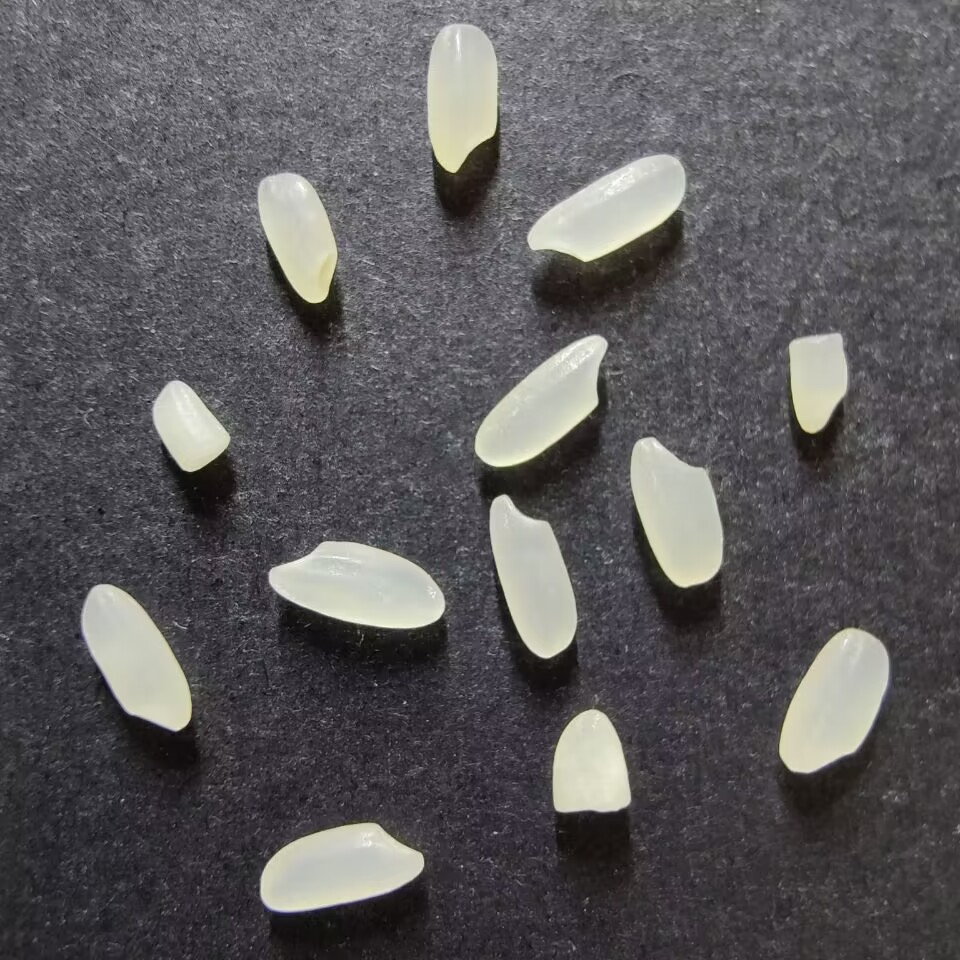broken: (551, 709, 632, 814), (151, 379, 231, 473), (788, 332, 847, 433)
rice: (473, 335, 608, 468), (526, 154, 685, 262), (80, 583, 191, 731), (778, 627, 889, 774), (267, 540, 445, 630), (259, 821, 425, 913), (489, 493, 579, 659), (629, 437, 723, 587), (425, 23, 499, 173), (256, 172, 337, 303)
